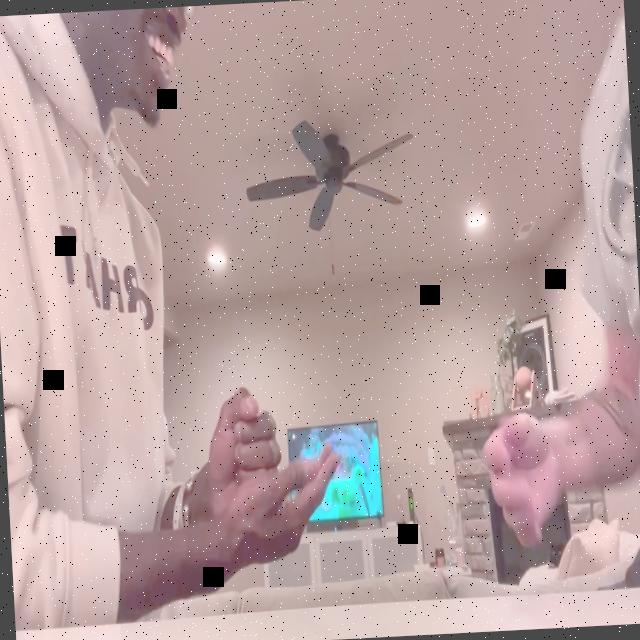Rock: (206, 384, 284, 526)
